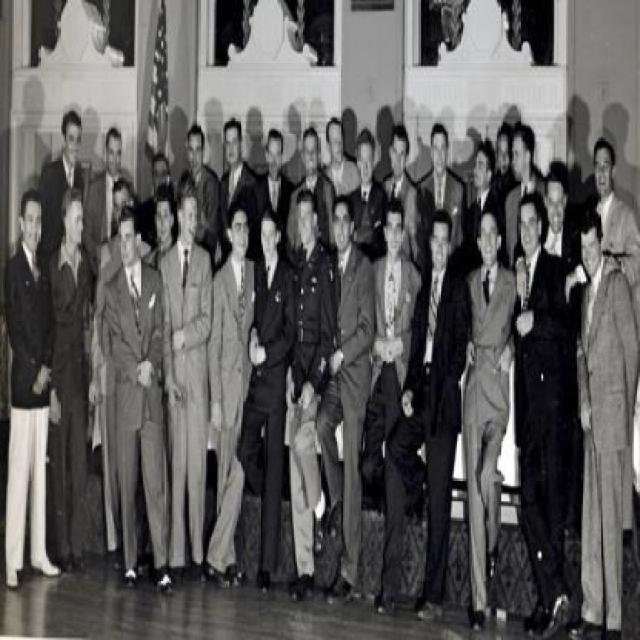Person: (386, 208, 468, 614), (508, 197, 578, 638), (101, 205, 177, 592), (574, 206, 638, 637), (313, 190, 378, 612), (456, 212, 518, 633), (362, 195, 424, 612), (235, 206, 298, 602), (156, 170, 213, 587), (284, 182, 338, 613), (4, 185, 58, 597), (202, 194, 256, 589), (86, 172, 132, 568), (49, 183, 91, 572), (592, 128, 639, 340), (539, 166, 590, 340), (80, 123, 126, 309), (283, 122, 337, 267), (413, 115, 469, 252), (36, 108, 82, 258), (215, 111, 260, 264), (458, 131, 507, 271), (345, 125, 390, 266), (502, 117, 544, 266), (245, 124, 290, 256), (382, 125, 426, 260), (480, 117, 518, 268), (186, 120, 217, 278), (137, 151, 175, 243), (141, 183, 177, 269), (324, 115, 362, 196)
